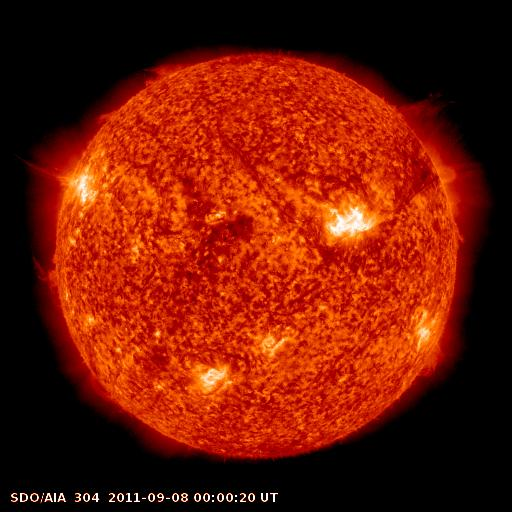prominence: (394, 92, 476, 244), (26, 245, 73, 311), (135, 52, 204, 95), (16, 150, 79, 197), (412, 330, 459, 386), (86, 103, 128, 133)
